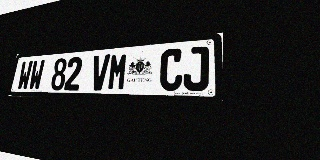2: (64, 56, 83, 90)
8: (50, 58, 68, 90)
C: (159, 48, 184, 91)
J: (183, 46, 209, 91)
M: (107, 53, 129, 91)
V: (90, 54, 110, 90)
W: (28, 60, 45, 90), (17, 61, 33, 90)
